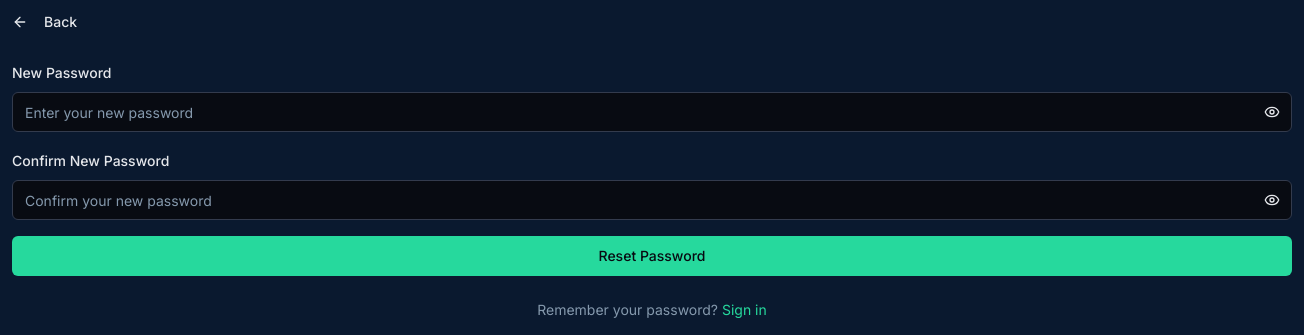
Test case: PasswordResetForm › Password Reset Step › should handle successful password reset
The image size is (1304, 335).
Type "StrongPass123!" into the password field with test id "new-password-input". click: (652, 112)
box: [12,92,1292,132]
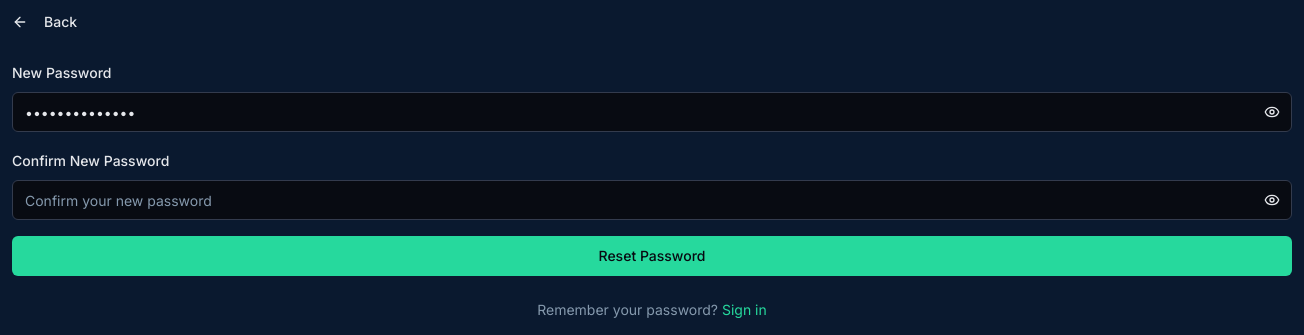
Type "StrongPass123!" into the password field with test id "confirm-password-input". click: (652, 200)
box: [12,180,1292,220]
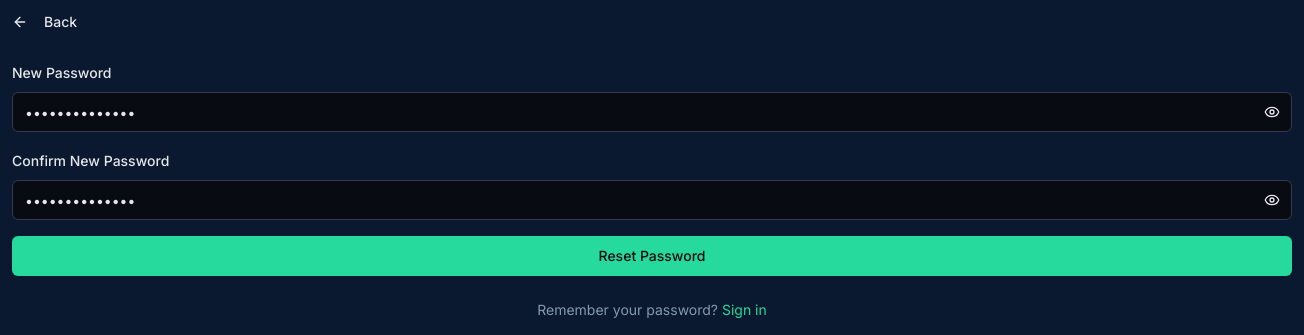
Click the button with test id "reset-password-button". click: (652, 256)
box: [12,236,1292,276]
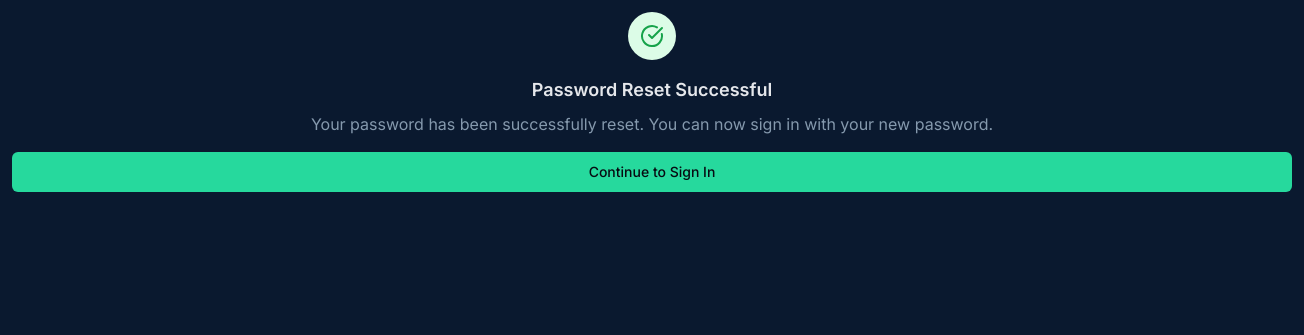
Result: the heading with test id "success-title" reads "Password Reset Successful" at [532,79,772,100]
